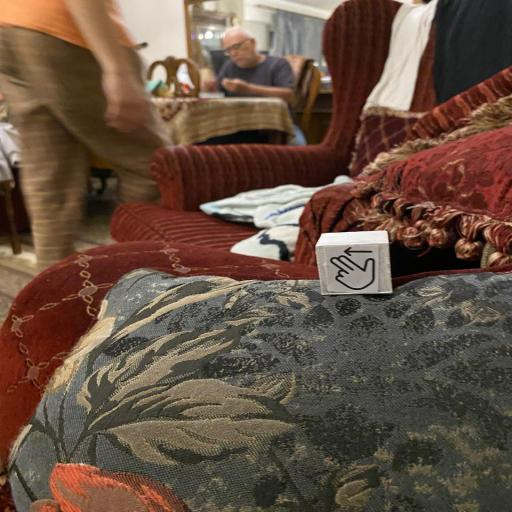LeftSwipe: (315, 230, 392, 293)
